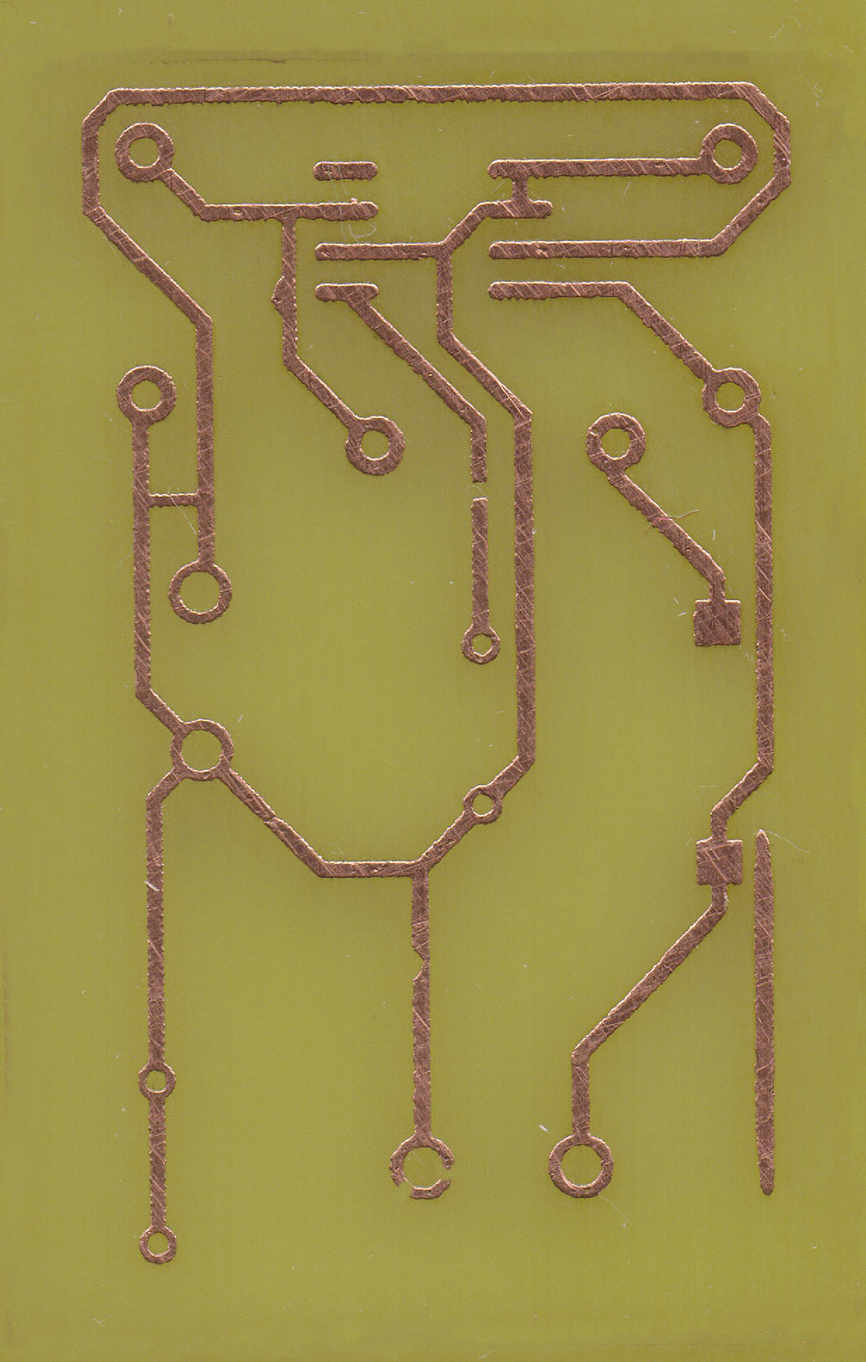missing_hole: (388, 1135, 456, 1200)
mouse_bite: (411, 944, 429, 983)
open_circuit: (471, 467, 489, 513)
short: (133, 485, 213, 513)
spur: (269, 276, 296, 319)
spurious_copper: (752, 829, 778, 1198)
